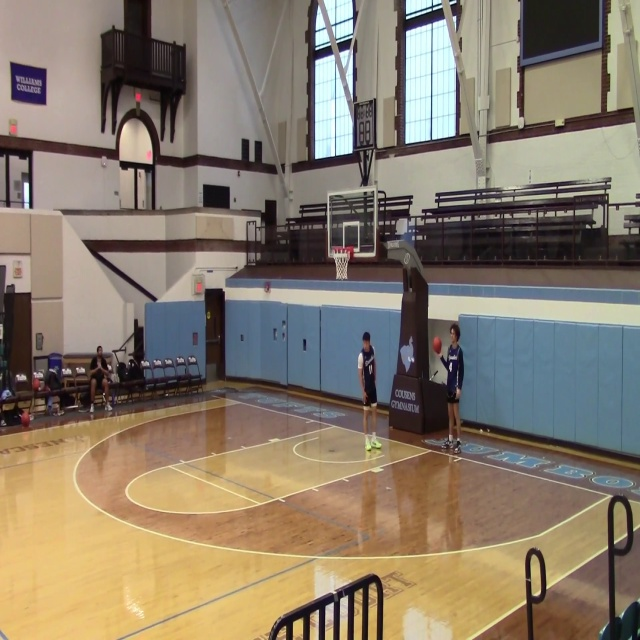Basketball: (432, 337, 442, 354)
